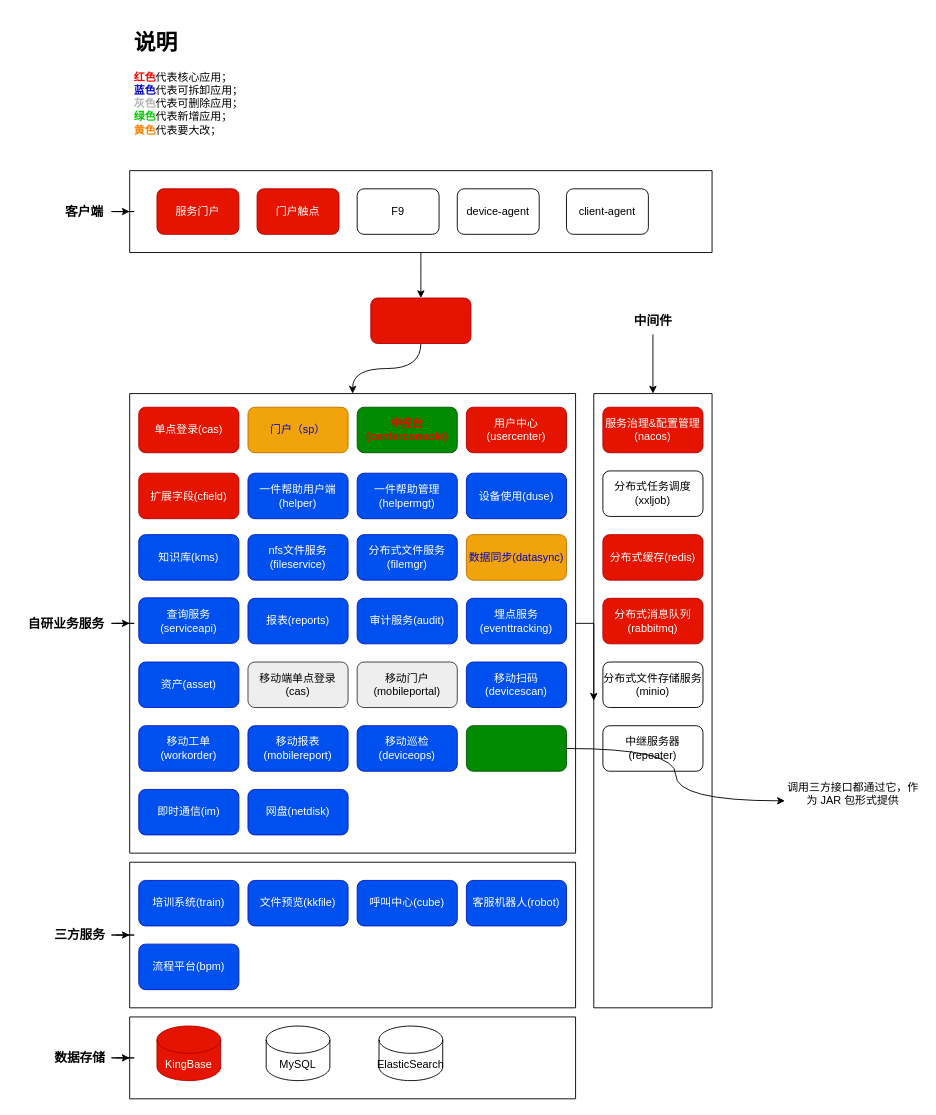
Image size: 936x1115. Some labels were removed from this diagram. The shapes that lost their labels are listed below. From the top down, each one's centre as x and y in pixels, then its label:
At (420,320): "网关(gateway)".
At (515,748): "三方 API 代理API(apiproxy)".
